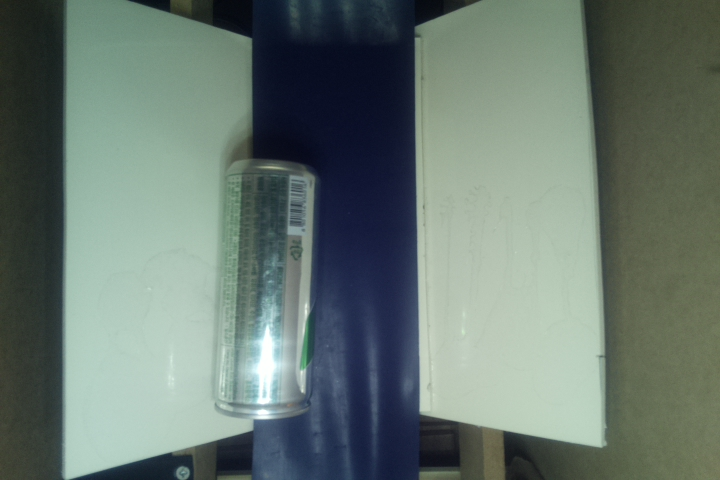can: (214, 153, 317, 424)
